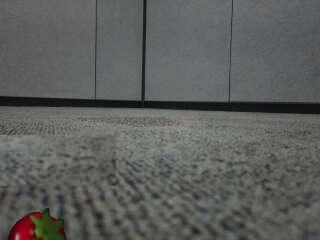Tomato: (6, 208, 69, 240)
